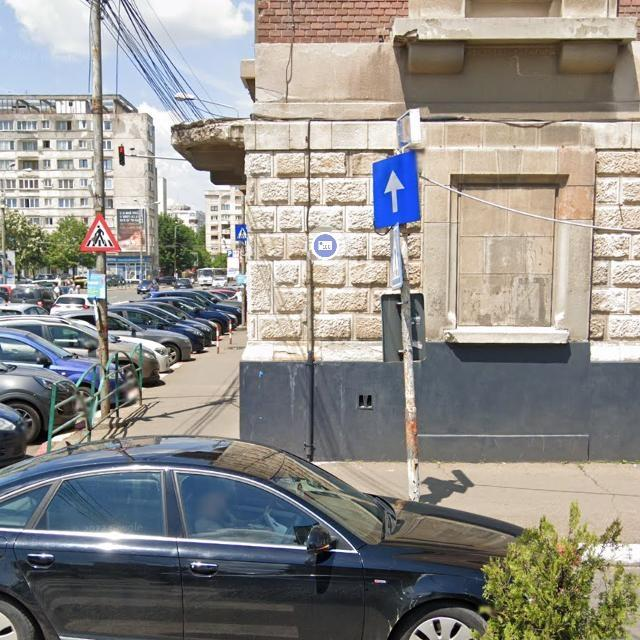info_crosswalk: (235, 225, 248, 242)
warn_crosswalk: (78, 212, 121, 251)
